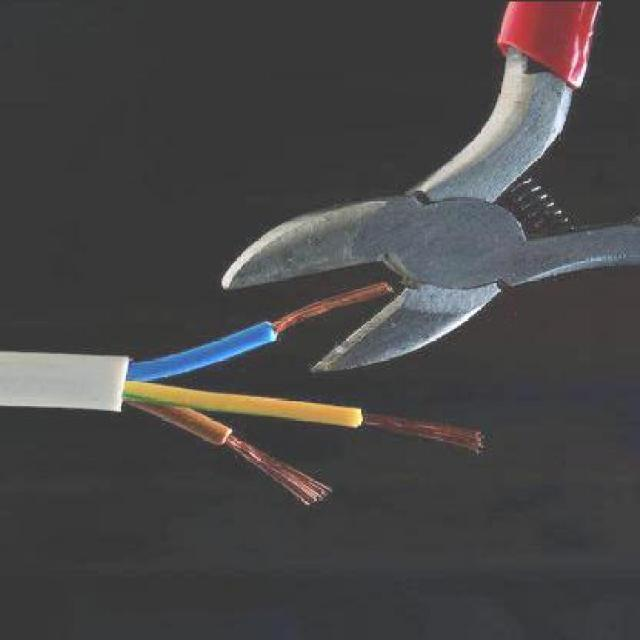pliers: (211, 4, 638, 378)
